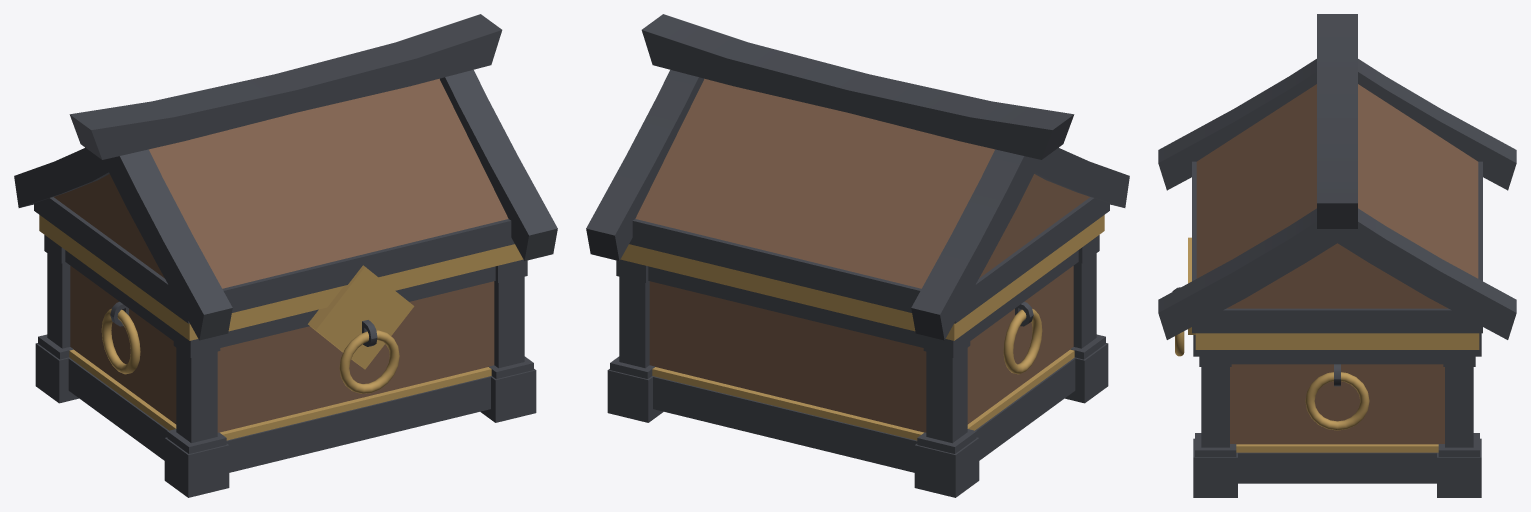
The model's file is treasure_box.fbx.
The picture shows the model from 3 angles, left to right: view 1: azimuth 30°, elevation 25°; view 2: azimuth 150°, elevation 25°; view 3: azimuth 270°, elevation 25°; orthographic projection. The views are drawn at different scales.
Parts seen in each view (by area): view 1: treasure_box11, treasure_box33, treasure_box10, treasure_box8, treasure_box34, treasure_box27, treasure_box32, treasure_box7, treasure_box45, treasure_box21, treasure_box13, treasure_box35 (+13 smaller); view 2: treasure_box11, treasure_box28, treasure_box33, treasure_box10, treasure_box34, treasure_box23, treasure_box7, treasure_box32, treasure_box43, treasure_box3, treasure_box13, treasure_box35 (+11 smaller); view 3: treasure_box11, treasure_box10, treasure_box25, treasure_box33, treasure_box34, treasure_box38, treasure_box41, treasure_box7, treasure_box5, treasure_box2, treasure_box26, treasure_box16 (+7 smaller).
Part boxes in pixels (left/top/right/bottom): treasure_box11: left=149, top=78, right=508, bottom=288; treasure_box33: left=69, top=14, right=502, bottom=159; treasure_box10: left=14, top=70, right=557, bottom=340; treasure_box8: left=217, top=281, right=494, bottom=432; treasure_box34: left=34, top=197, right=514, bottom=323; treasure_box27: left=226, top=376, right=490, bottom=472; treasure_box32: left=70, top=266, right=176, bottom=424; treasure_box7: left=39, top=215, right=523, bottom=340; treasure_box45: left=308, top=265, right=414, bottom=369; treasure_box21: left=176, top=348, right=217, bottom=443; treasure_box13: left=54, top=174, right=164, bottom=278; treasure_box35: left=68, top=358, right=168, bottom=460; treasure_box11: left=635, top=78, right=994, bottom=288; treasure_box28: left=649, top=281, right=926, bottom=432; treasure_box33: left=641, top=14, right=1074, bottom=159; treasure_box10: left=586, top=70, right=1129, bottom=340; treasure_box34: left=629, top=197, right=1109, bottom=323; treasure_box23: left=653, top=376, right=917, bottom=472; treasure_box7: left=620, top=215, right=1104, bottom=340; treasure_box32: left=967, top=266, right=1073, bottom=424; treasure_box43: left=648, top=266, right=923, bottom=347; treasure_box3: left=926, top=348, right=967, bottom=443; treasure_box13: left=979, top=174, right=1089, bottom=278; treasure_box35: left=975, top=358, right=1075, bottom=460; treasure_box11: left=1196, top=84, right=1478, bottom=278; treasure_box10: left=1158, top=59, right=1516, bottom=339; treasure_box25: left=1230, top=364, right=1444, bottom=444; treasure_box33: left=1317, top=14, right=1357, bottom=228; treasure_box34: left=1192, top=161, right=1482, bottom=333; treasure_box38: left=1227, top=243, right=1447, bottom=308; treasure_box41: left=1238, top=452, right=1436, bottom=483; treasure_box7: left=1195, top=333, right=1479, bottom=349; treasure_box5: left=1231, top=350, right=1443, bottom=364; treasure_box2: left=1201, top=367, right=1229, bottom=447; treasure_box26: left=1445, top=367, right=1473, bottom=447; treasure_box16: left=1193, top=438, right=1237, bottom=497.
Size of the model in its own units: 66.17 by 50.38 by 52.94.
